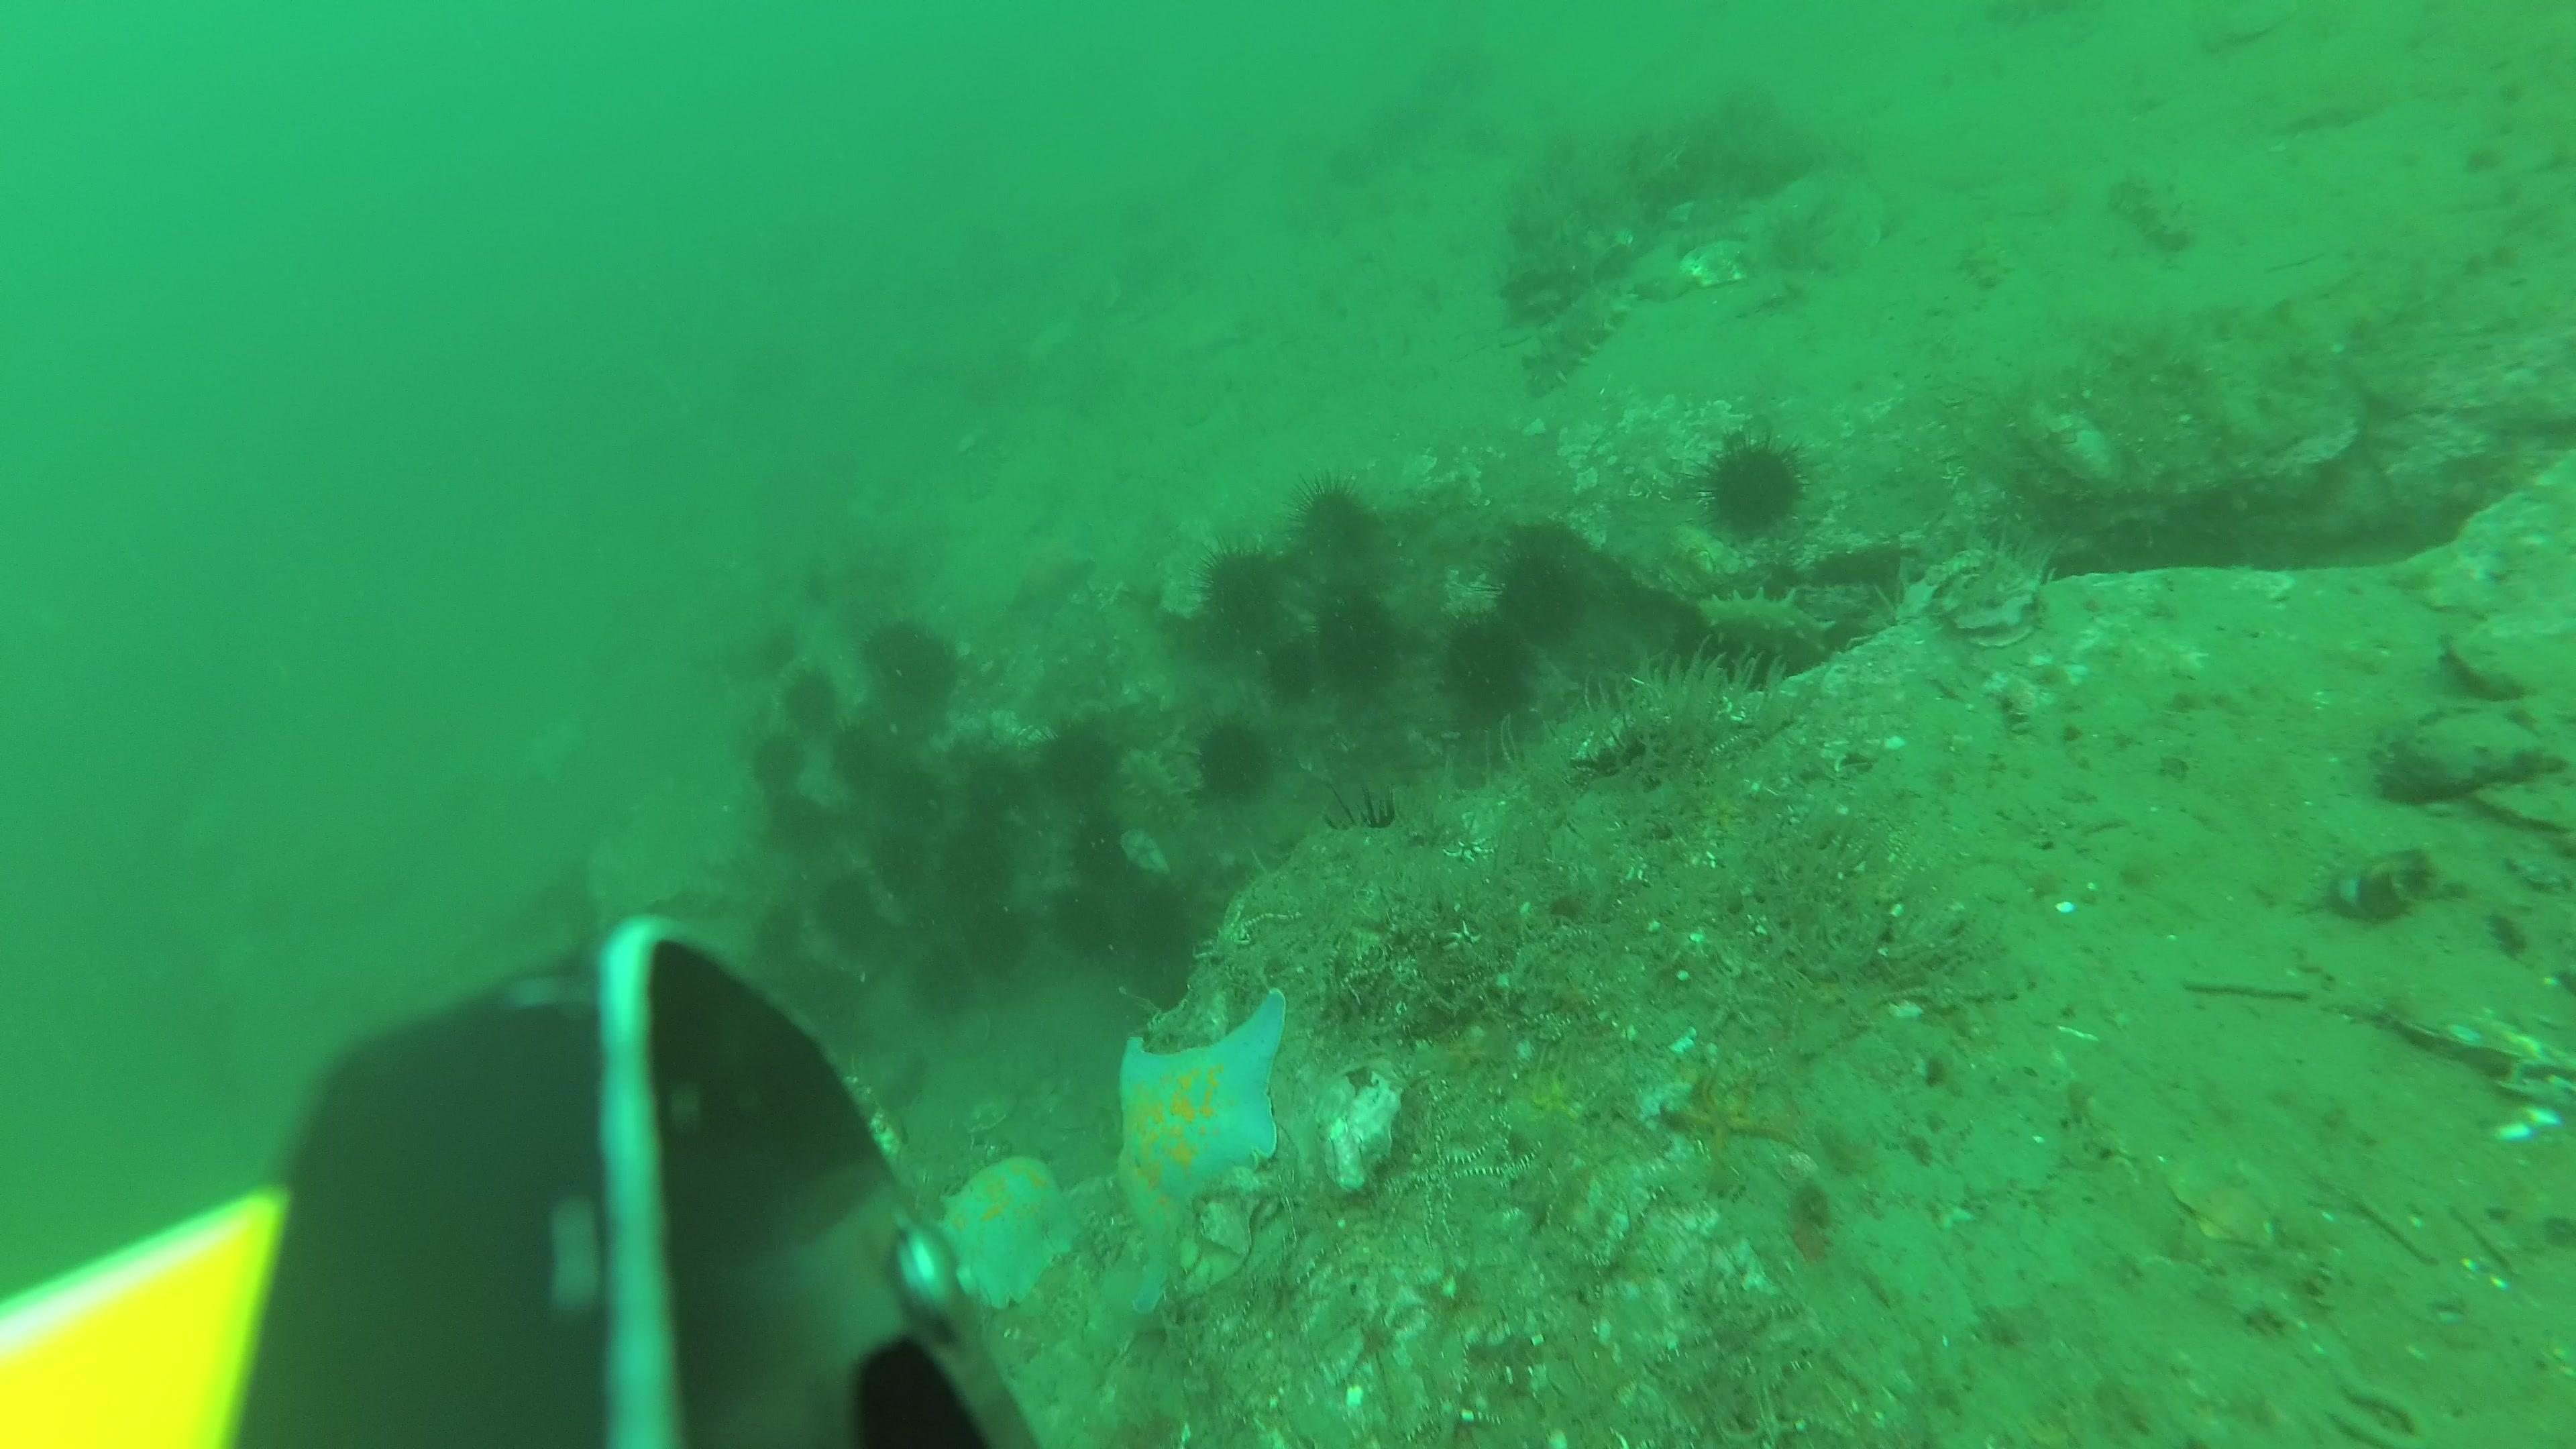echinus: (1691, 432, 1819, 548), (1438, 610, 1539, 731), (1484, 545, 1592, 655), (1283, 474, 1385, 582), (1323, 789, 1417, 883), (1320, 598, 1410, 694), (1200, 547, 1281, 644), (1189, 722, 1277, 810), (1035, 715, 1115, 801), (1127, 885, 1198, 971), (941, 830, 1010, 908), (763, 793, 835, 855), (909, 952, 971, 1021), (1070, 814, 1131, 885), (901, 642, 964, 708), (860, 616, 922, 681), (964, 757, 1024, 824), (800, 970, 863, 1031), (1054, 883, 1115, 948), (777, 663, 835, 731), (748, 901, 801, 973), (964, 908, 1021, 975), (1267, 642, 1323, 709), (752, 729, 805, 800), (888, 764, 943, 824), (870, 830, 925, 888), (837, 916, 897, 970), (809, 876, 863, 932), (763, 626, 809, 681), (833, 722, 874, 782)
holothurian: (1695, 582, 1840, 694), (1522, 278, 1638, 398), (2114, 170, 2197, 255), (1985, 0, 2082, 35), (1964, 234, 2013, 290)
scallop: (2169, 1152, 2284, 1251), (1679, 235, 1759, 294), (957, 1085, 1017, 1139)
starfish: (1113, 984, 1288, 1313), (941, 1154, 1074, 1309), (1660, 1074, 1799, 1182), (1007, 531, 1095, 628), (1527, 1062, 1592, 1129), (1440, 1028, 1491, 1079)
